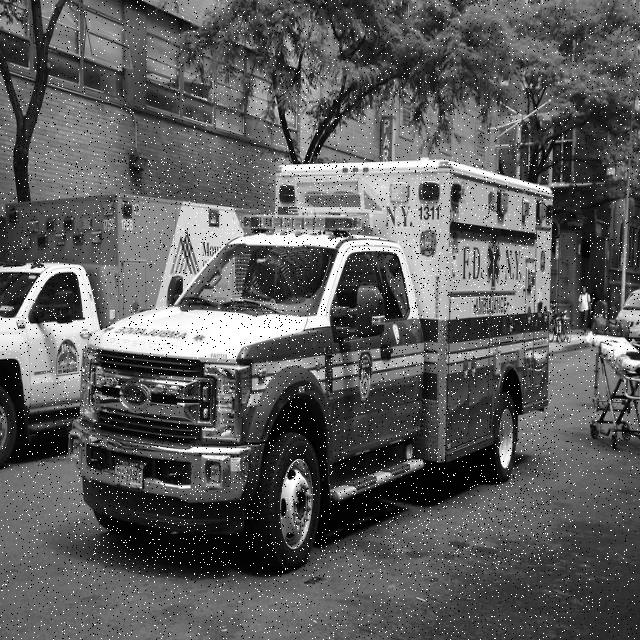Ambulance: (69, 159, 555, 577), (0, 194, 263, 468)
